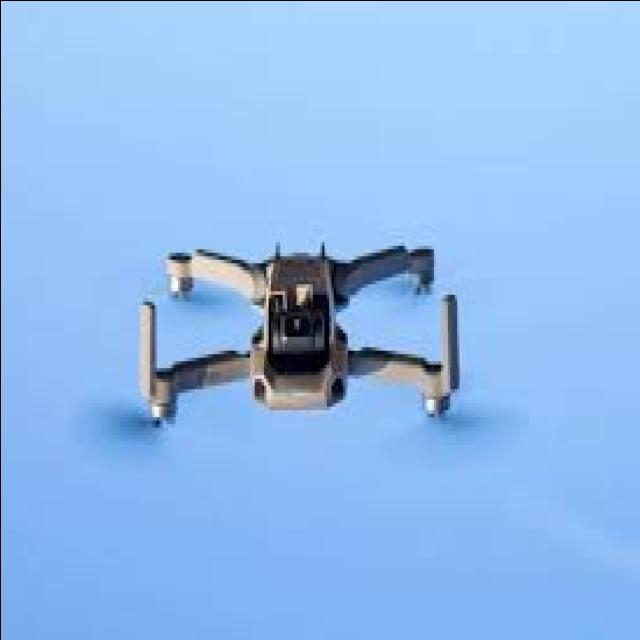drone: (73, 213, 519, 472)
